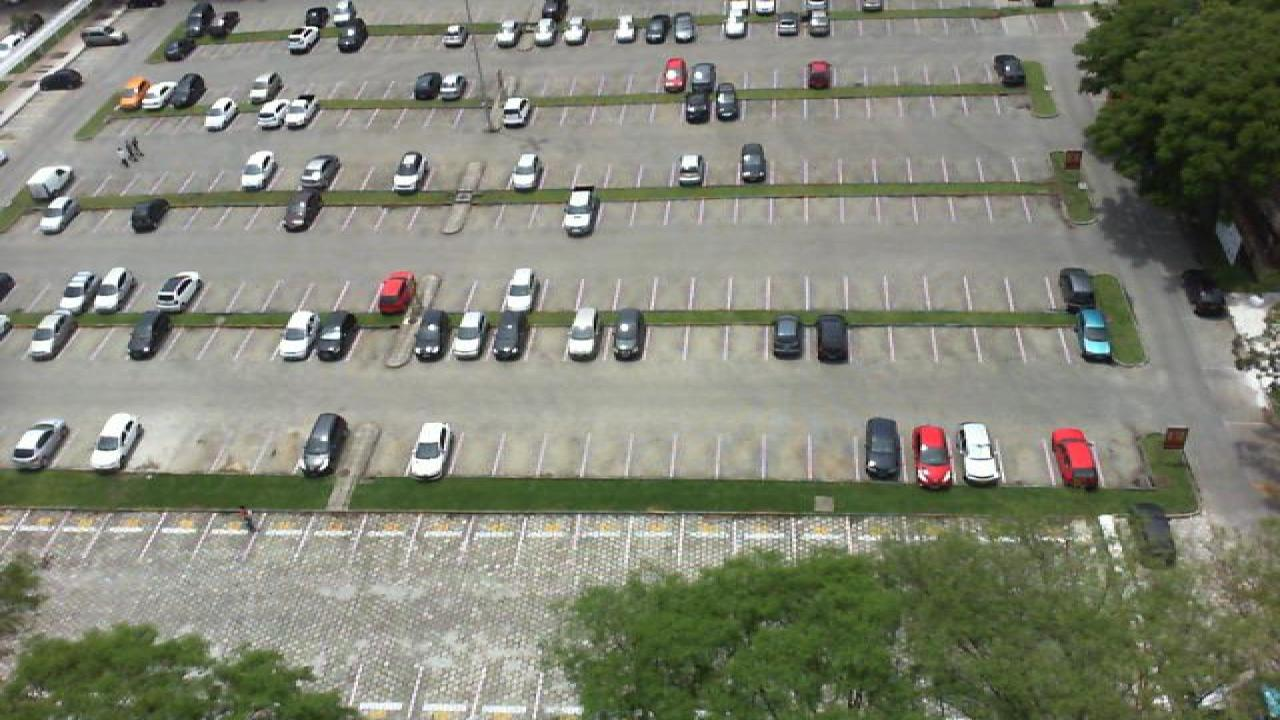Car: (1048, 426, 1104, 490), (298, 411, 350, 479), (88, 412, 144, 472), (1126, 503, 1180, 565), (956, 422, 1006, 488), (402, 422, 454, 479), (8, 420, 68, 469), (912, 424, 956, 489), (860, 417, 902, 480), (406, 308, 454, 362), (124, 309, 172, 361), (274, 310, 322, 362), (310, 310, 358, 362), (1184, 268, 1232, 320), (486, 308, 532, 362), (88, 266, 138, 314), (24, 313, 72, 361), (1072, 306, 1114, 360), (370, 270, 418, 317), (606, 308, 646, 362), (564, 308, 604, 361), (558, 185, 598, 238), (500, 267, 544, 315), (152, 271, 202, 313), (24, 163, 76, 203), (56, 270, 102, 314), (448, 311, 488, 361), (280, 189, 324, 233), (1056, 266, 1098, 312), (34, 194, 80, 236), (812, 314, 850, 364), (298, 153, 342, 195), (768, 314, 806, 361), (238, 148, 278, 192), (162, 72, 206, 110), (128, 196, 172, 233), (390, 151, 428, 192), (736, 142, 770, 185), (200, 96, 240, 132), (680, 81, 712, 125), (508, 152, 544, 191), (710, 81, 742, 124), (250, 96, 290, 130), (140, 78, 182, 110), (990, 53, 1028, 88), (282, 94, 318, 130), (246, 71, 284, 105), (674, 154, 708, 189), (332, 21, 368, 54), (720, 0, 750, 39), (498, 96, 532, 130), (658, 56, 688, 94), (558, 15, 592, 47), (286, 25, 324, 53), (182, 2, 216, 33), (528, 17, 562, 48), (410, 71, 444, 101), (802, 60, 834, 91), (686, 61, 716, 94), (642, 12, 672, 45), (610, 15, 642, 45), (670, 10, 698, 44), (326, 0, 360, 27), (806, 0, 832, 35), (440, 70, 470, 100), (160, 38, 196, 63), (776, 0, 800, 37)
